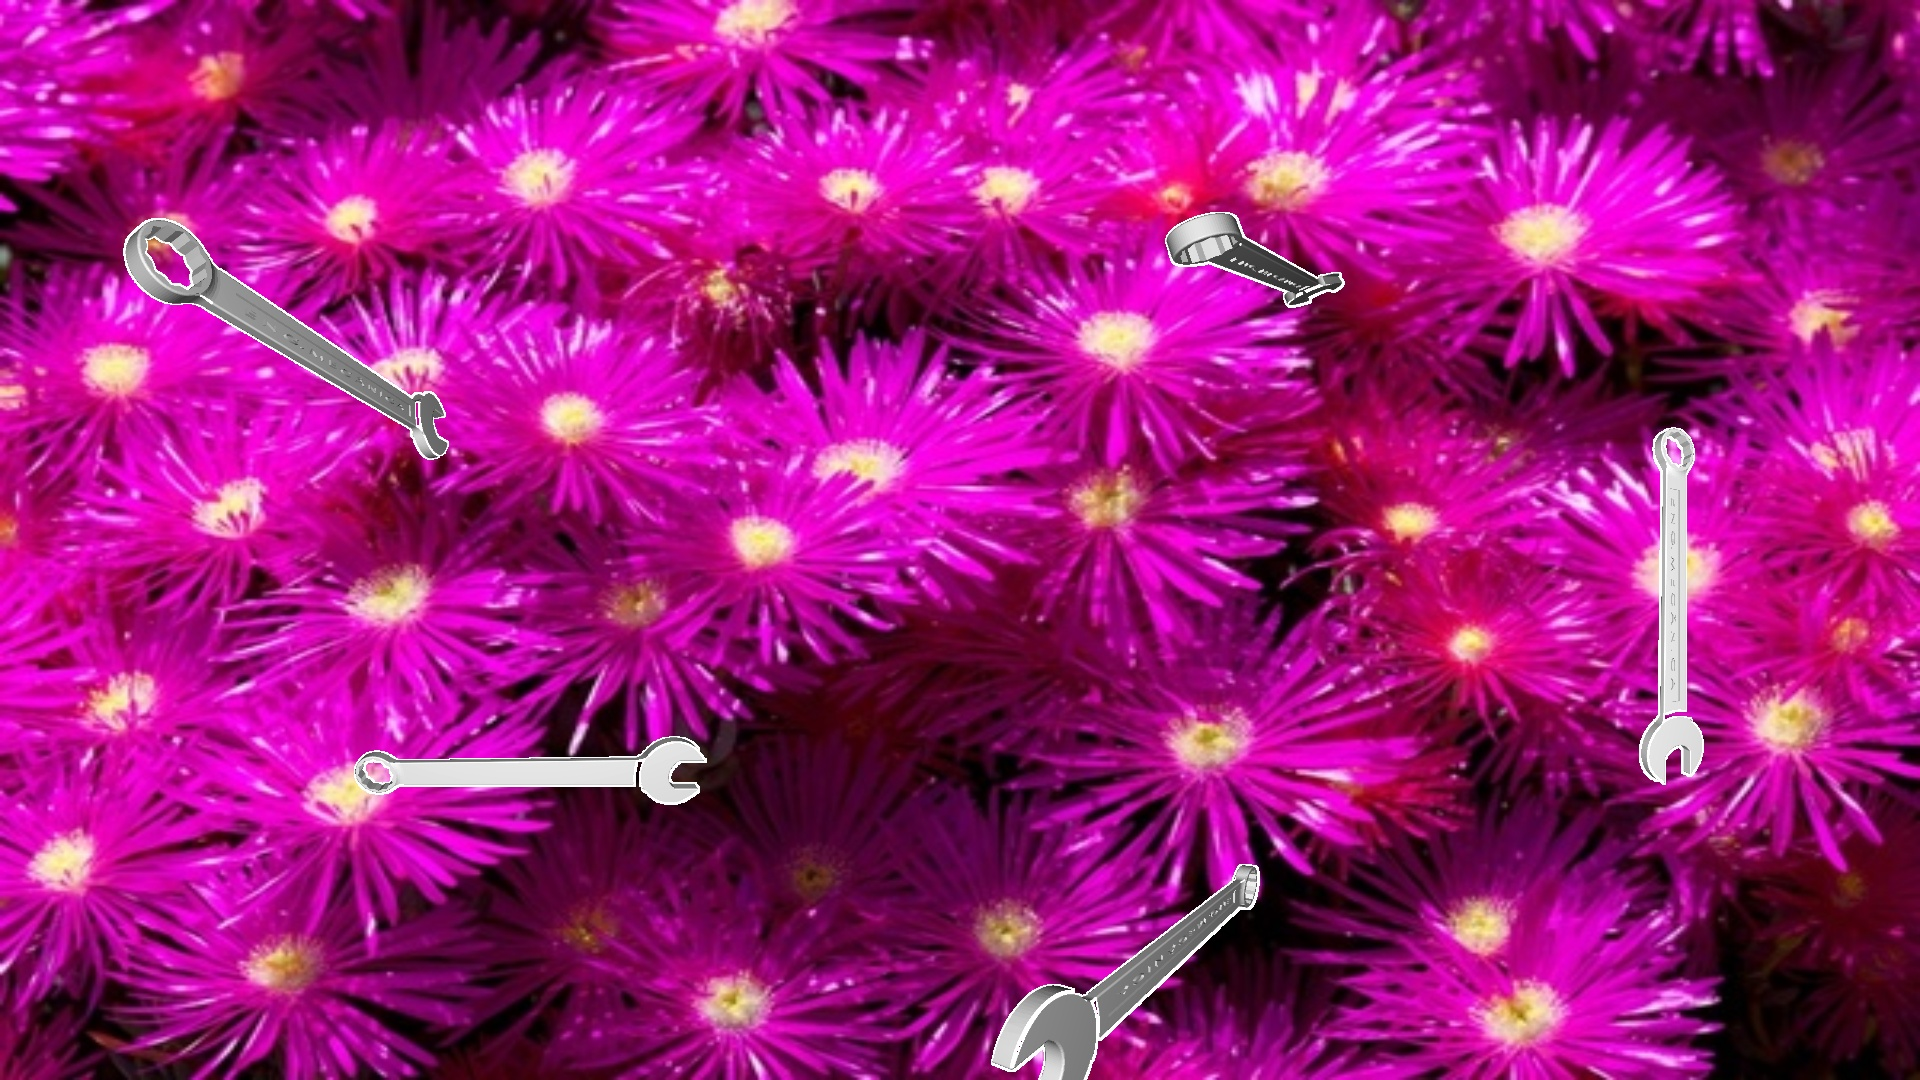Mixed Key: (123, 218, 448, 459), (992, 864, 1259, 1079), (353, 736, 705, 804), (1639, 427, 1702, 785), (1164, 212, 1344, 307)
